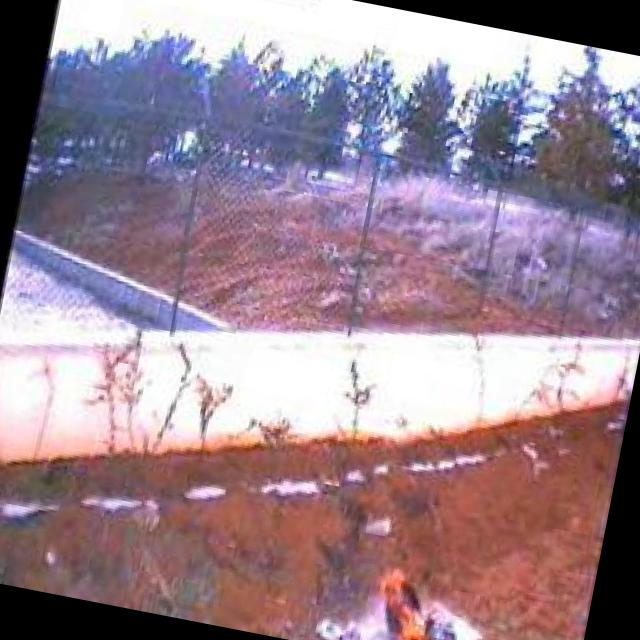Fire: (366, 564, 466, 640)
